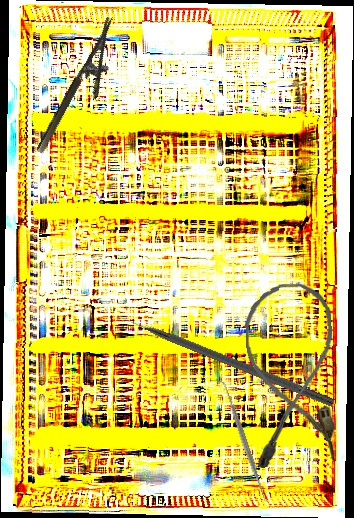Cannula: (243, 281, 339, 469)
Hook Surgical: (117, 310, 336, 407)
Needle Holder: (34, 16, 134, 164)
Spatula Surgical: (216, 377, 272, 505)
